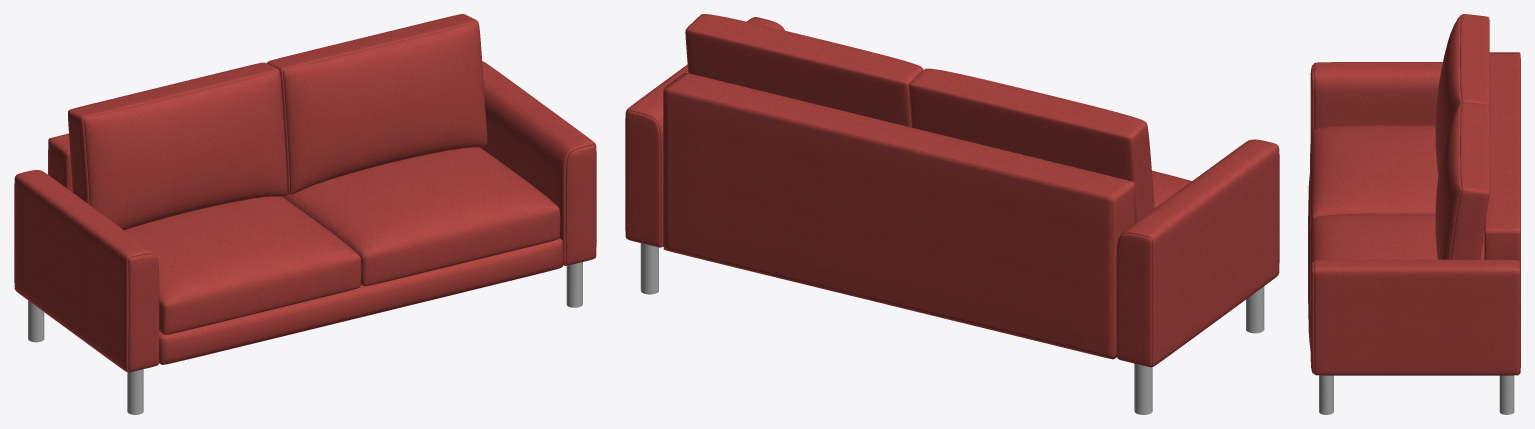
File: uploads-files-3170821-Red_sofa_glb.gltf
3 views of the same model, side by side, from view 1: azimuth 30°, elevation 25°; view 2: azimuth 150°, elevation 25°; view 3: azimuth 270°, elevation 25° (orthographic). The views are drawn at different scales.
Parts seen in each view (by area): view 1: Cube.002, Cube.003, Cube, Circle; view 2: Cube, Cube.002, Cube.003, Circle; view 3: Cube.002, Cube.003, Cube, Circle.
Boxes of the visible parts, x1,y1,x2,y2 form: Cube.002: [14, 61, 596, 372]; Cube.003: [68, 14, 487, 230]; Cube: [48, 133, 563, 364]; Circle: [28, 262, 582, 414]; Cube: [663, 72, 1135, 359]; Cube.002: [625, 17, 1279, 367]; Cube.003: [685, 14, 1154, 222]; Circle: [640, 243, 1264, 414]; Cube.002: [1310, 62, 1520, 375]; Cube.003: [1435, 14, 1489, 259]; Cube: [1308, 52, 1520, 350]; Circle: [1319, 375, 1514, 414].
Bounding box in the file's own units: 181 × 86.12 × 77.83.
1 material, 1 textured.
